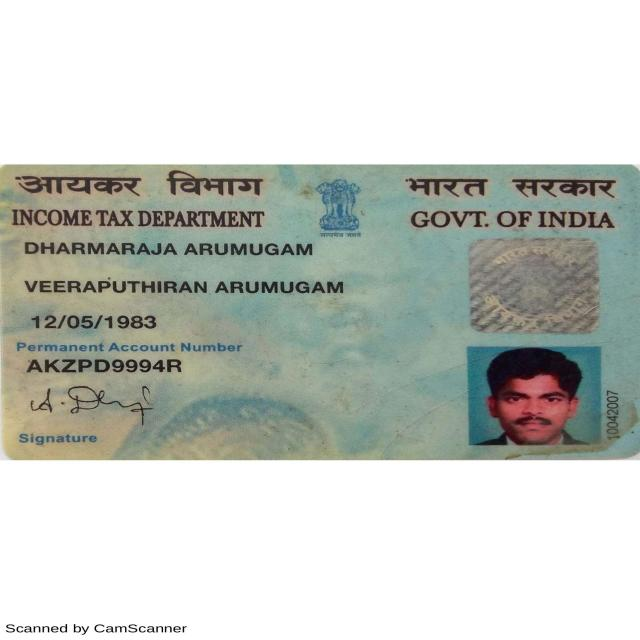pan_card: (0, 165, 634, 462)
